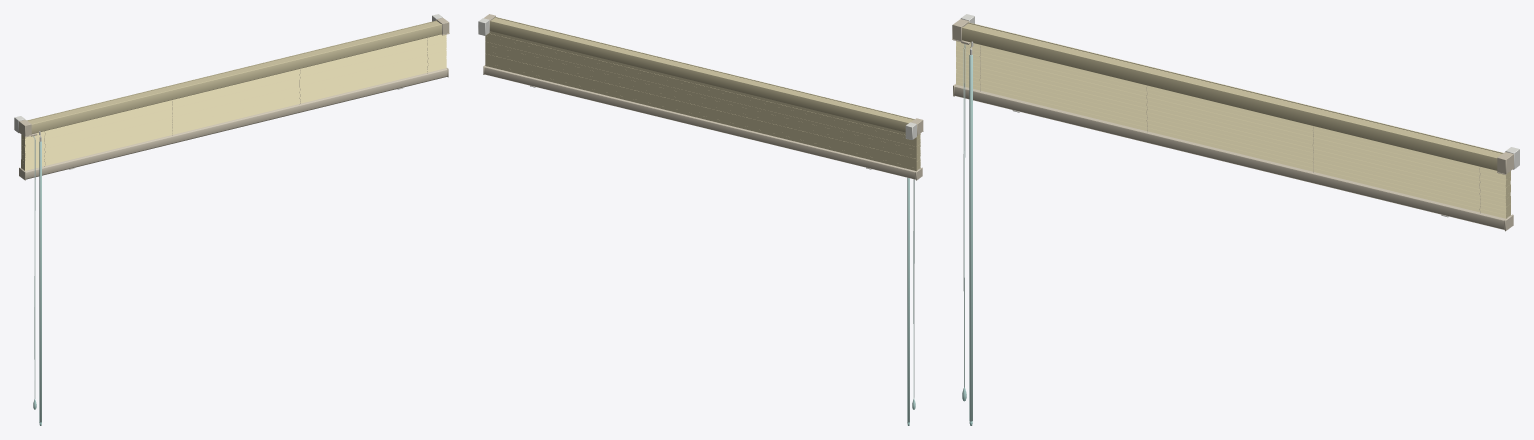
Rendered from Kit_MiniBlind_Raised.fbx.
3 renders of one model, left to right at view 1: azimuth 30°, elevation 25°; view 2: azimuth 150°, elevation 25°; view 3: azimuth 330°, elevation 25°, orthographic. The views are drawn at different scales.
Parts seen in each view (by area): view 1: Kit_MiniBlind_Raised_LOD0; view 2: Kit_MiniBlind_Raised_LOD0; view 3: Kit_MiniBlind_Raised_LOD0.
Part boxes in pixels (x1,y1,x2,y2): Kit_MiniBlind_Raised_LOD0: (14, 14, 449, 425); Kit_MiniBlind_Raised_LOD0: (478, 14, 923, 425); Kit_MiniBlind_Raised_LOD0: (952, 14, 1519, 425).
Size of what is drawn, in the model's own units: 1.55 by 1.06 by 0.0762.
